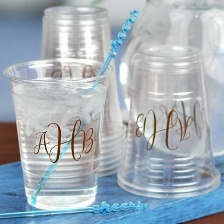glass: (0, 53, 121, 212), (36, 2, 135, 181), (116, 42, 224, 203)
